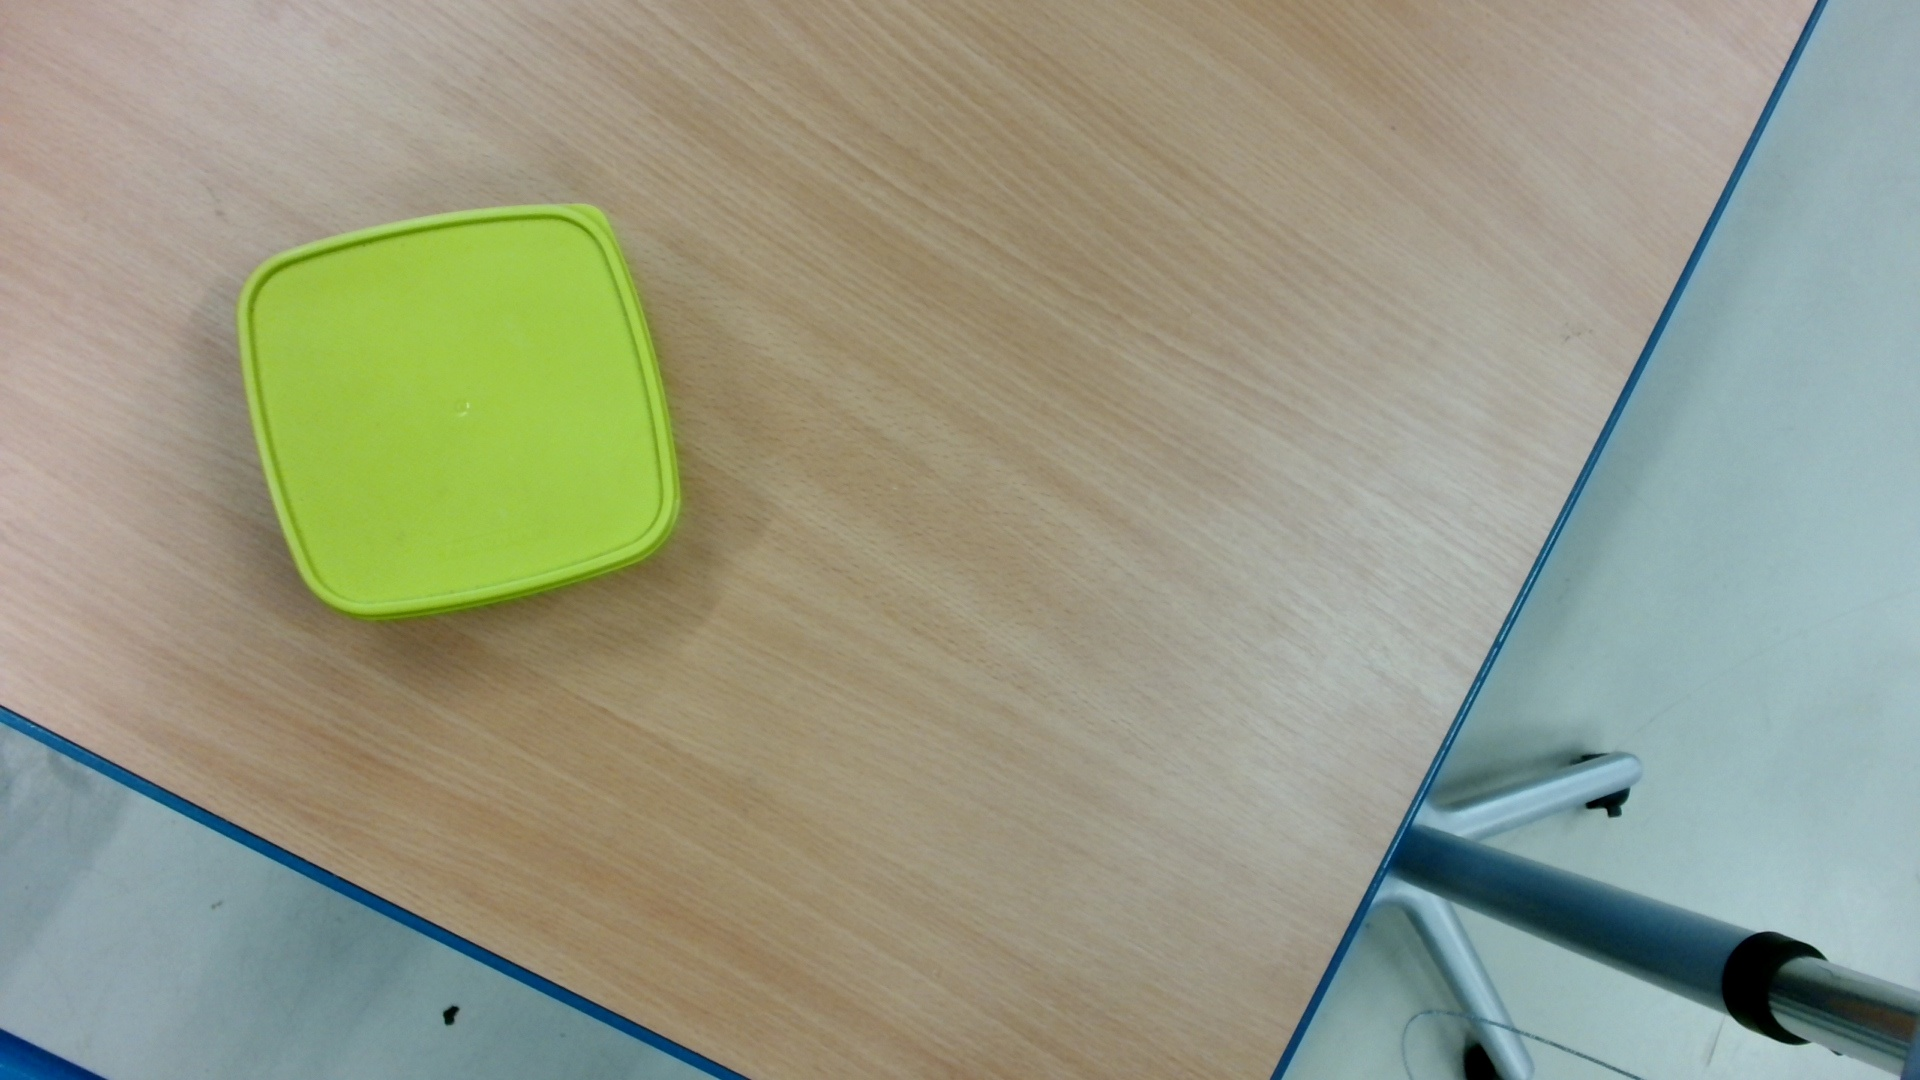Box: (227, 193, 692, 634)
